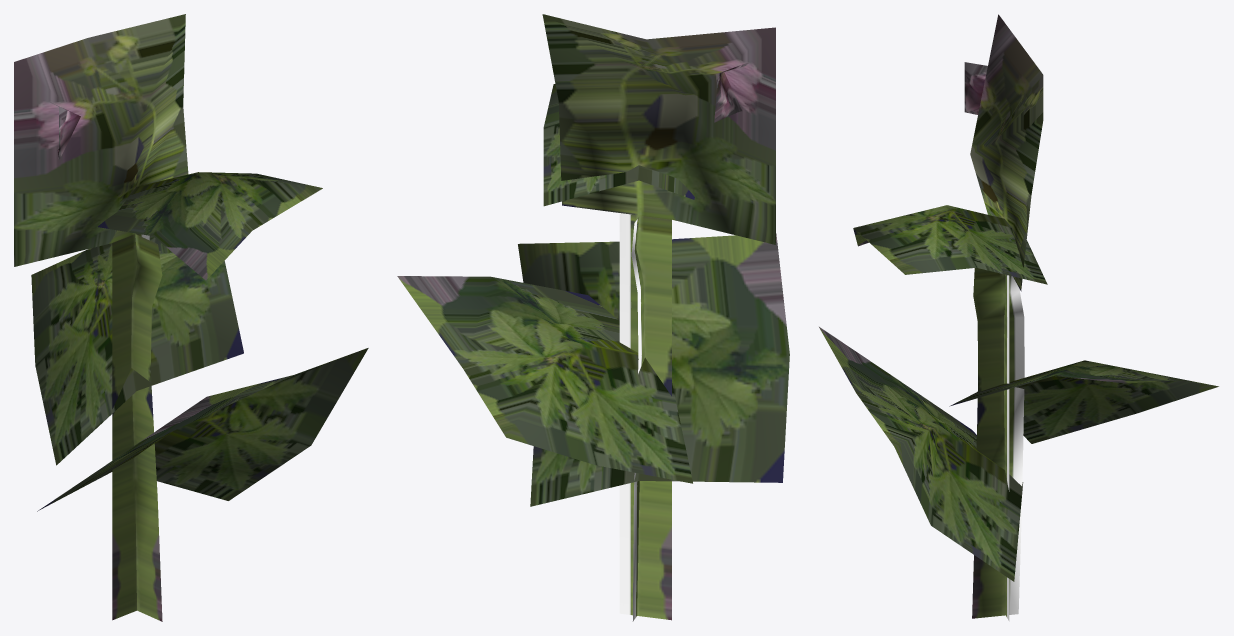
File: Plant2.gltf
3 views of the same model, side by side, from view 1: azimuth 30°, elevation 25°; view 2: azimuth 150°, elevation 25°; view 3: azimuth 270°, elevation 25° (orthographic). The views are drawn at different scales.
Visible parts, largest first — view 1: Plant2; view 2: Plant2; view 3: Plant2.
Boxes of the visible parts, <box> form: Plant2: <box>14,14,368,621</box>; Plant2: <box>397,14,789,621</box>; Plant2: <box>819,14,1218,621</box>.
Size of the model in its own units: 3.6 by 6.7 by 4.48.
1 material, 1 textured.
